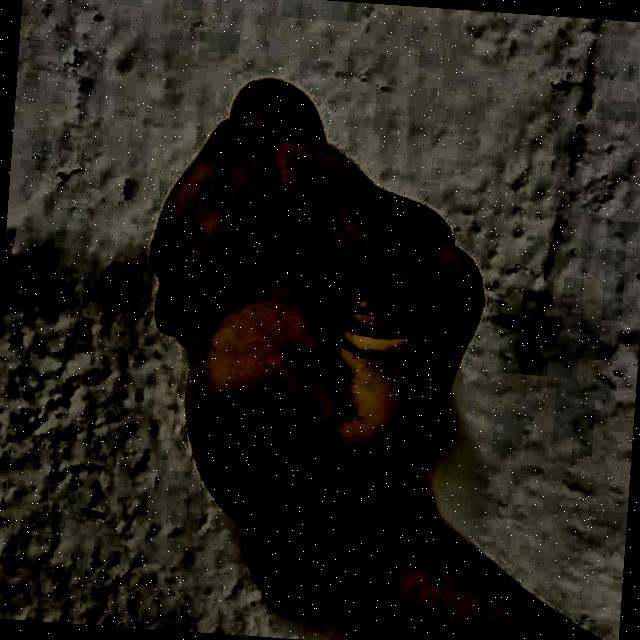Ta: (85, 30, 574, 640)
